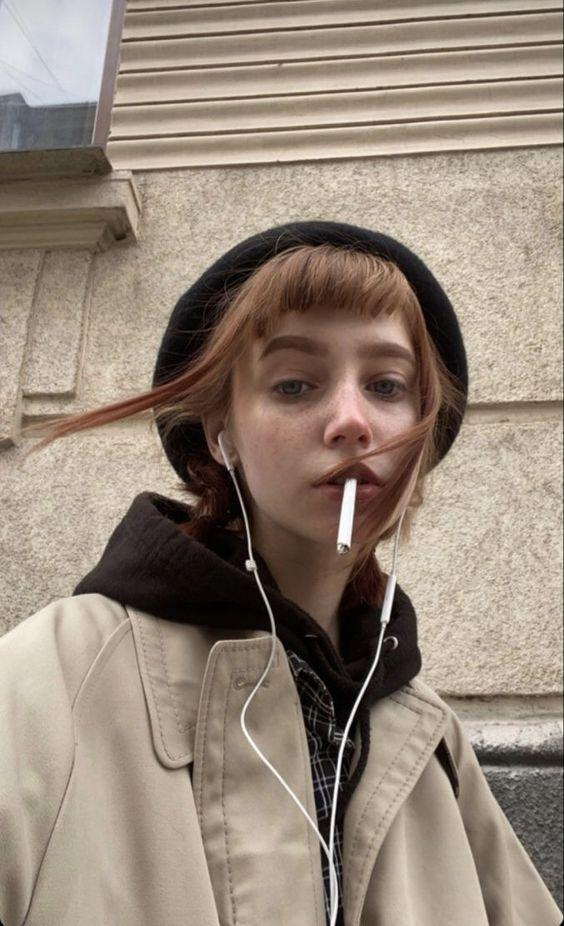cigarette: (336, 476, 358, 555)
